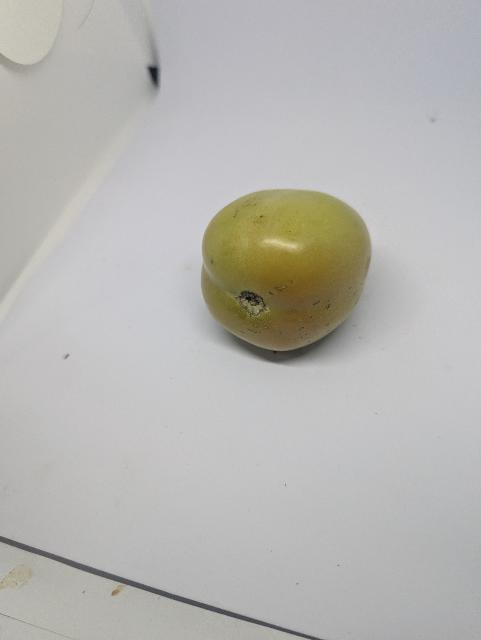breaker: (197, 186, 373, 357)
